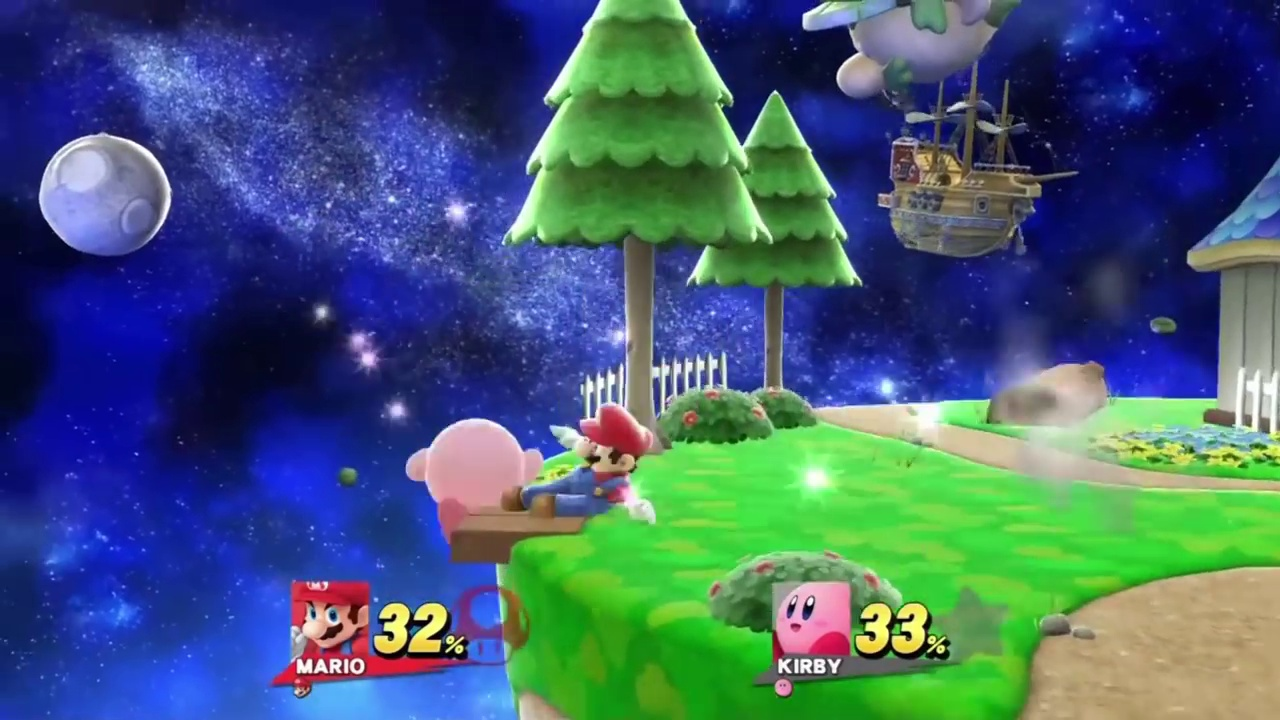Mario: (501, 399, 661, 526)
